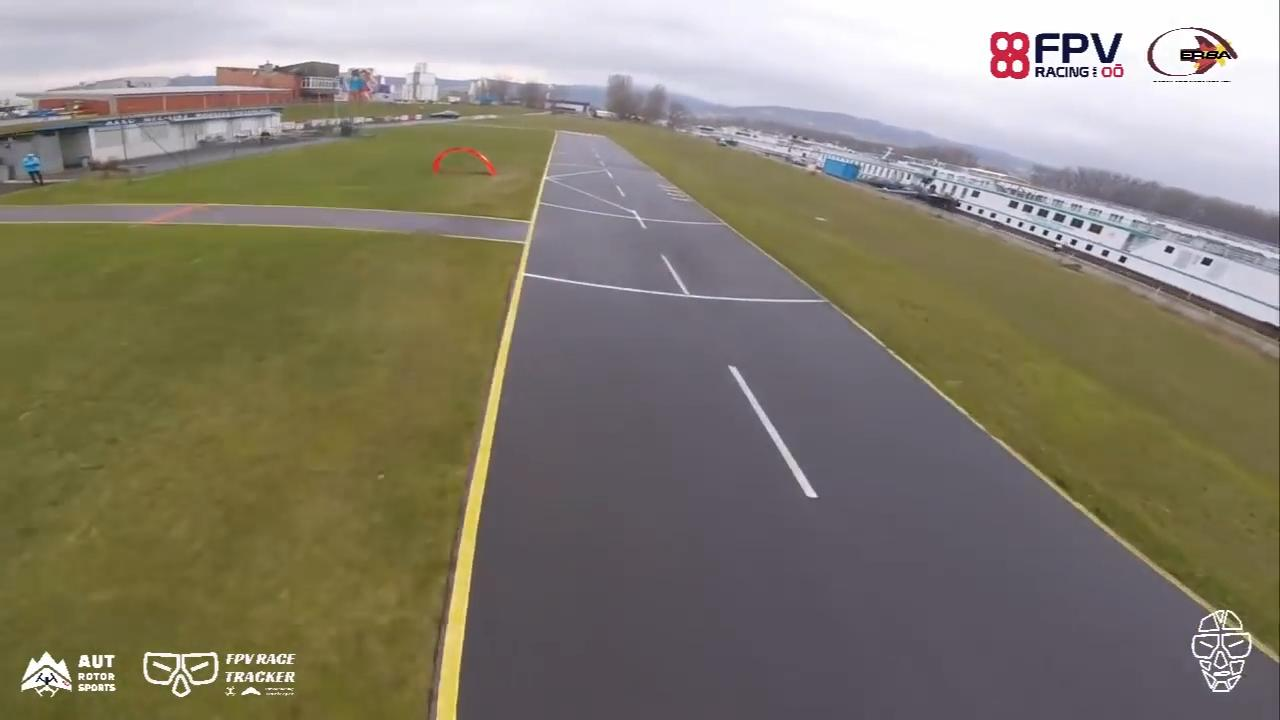gate: (433, 146, 491, 183)
